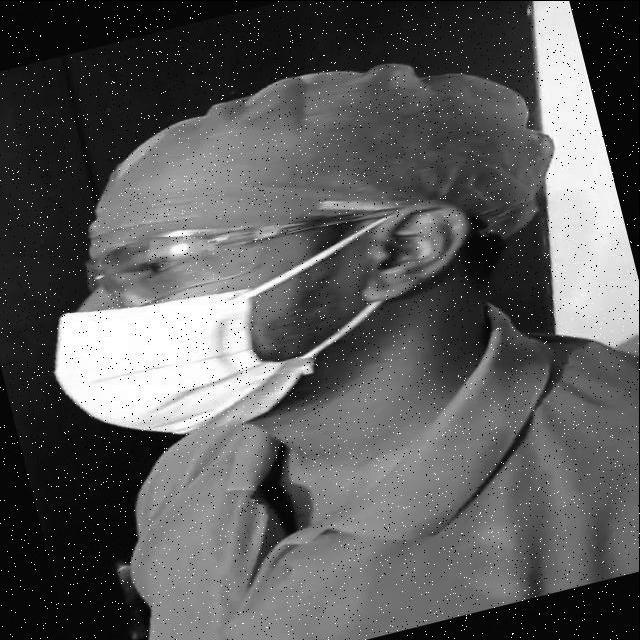gloves: (81, 62, 579, 256)
mask: (52, 266, 270, 467)
